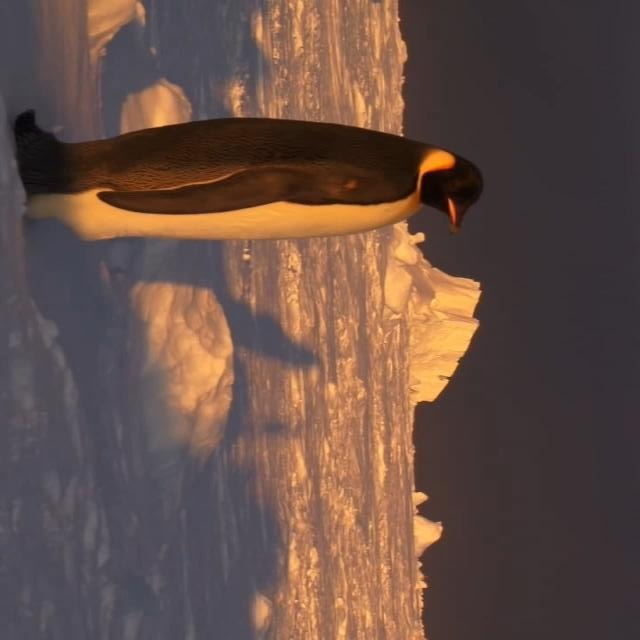penguin: (13, 108, 485, 244)
